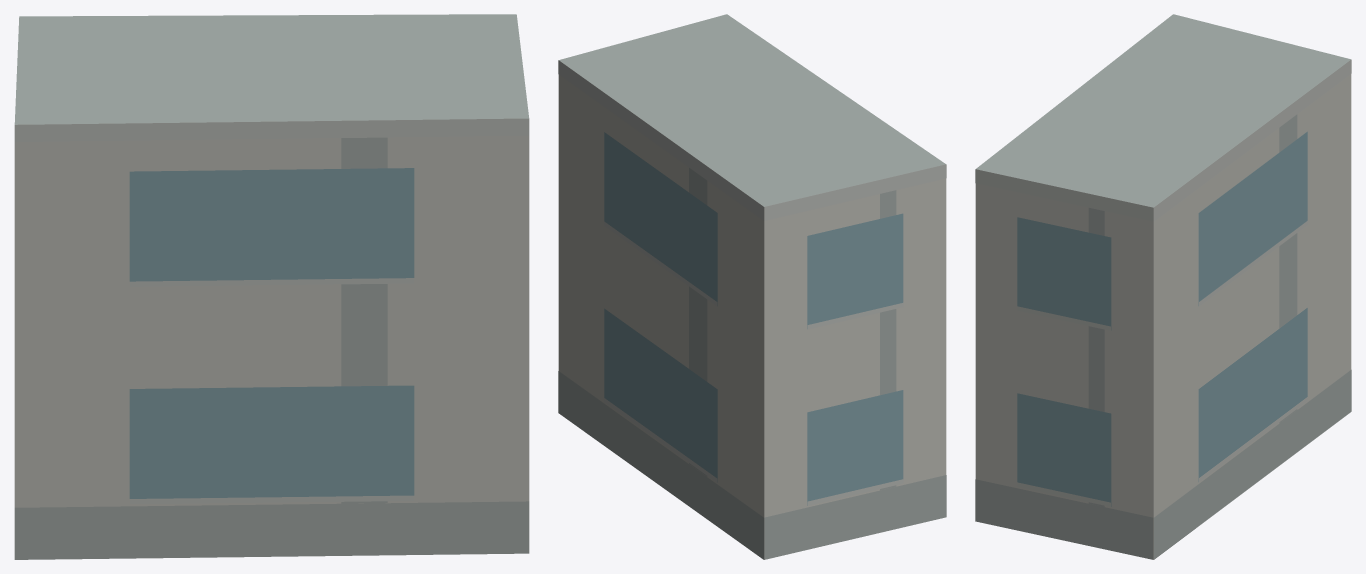
Rendered from survey-upis-32578500.glb.
The picture shows the model from 3 angles, left to right: view 1: azimuth 30°, elevation 25°; view 2: azimuth 150°, elevation 25°; view 3: azimuth 270°, elevation 25°; orthographic projection. The views are drawn at different scales.
Parts seen in each view (by area): view 1: survey-upis-32578500.tmp; view 2: survey-upis-32578500.tmp; view 3: survey-upis-32578500.tmp.
Part boxes in pixels (box(x1,y1,x2,y2)): survey-upis-32578500.tmp: box(14, 14, 529, 559); survey-upis-32578500.tmp: box(558, 14, 946, 559); survey-upis-32578500.tmp: box(975, 14, 1351, 559).
Size of the model in its own units: 7.2 by 6.1 by 5.91.
